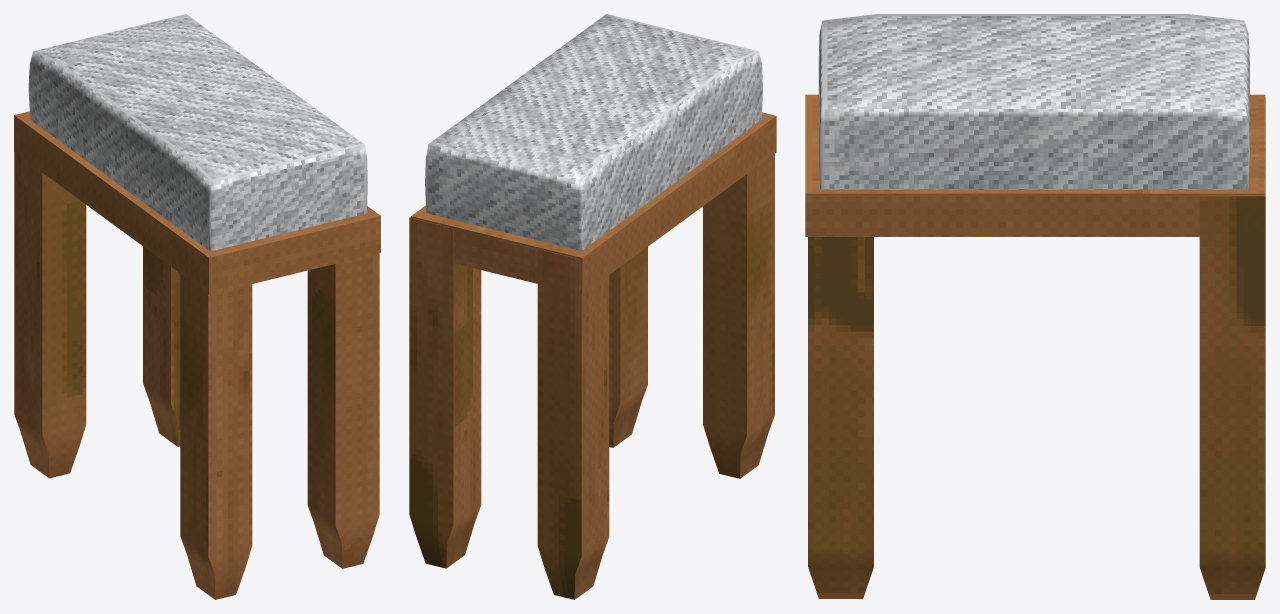
The model's file is sedia_piano.fbx.
3 renders of one model, left to right at view 1: azimuth 30°, elevation 25°; view 2: azimuth 150°, elevation 25°; view 3: azimuth 270°, elevation 25°, orthographic. The views are drawn at different scales.
Parts seen in each view (by area): view 1: sediolino.001; view 2: sediolino.001; view 3: sediolino.001.
Part boxes in pixels (box(x1,y1,x2,y2)): sediolino.001: box(14, 14, 380, 599); sediolino.001: box(409, 14, 776, 599); sediolino.001: box(805, 14, 1265, 599).
Bounding box in the file's own units: 0.5082 × 1.19 × 0.9919.
2 materials, 2 textured.
